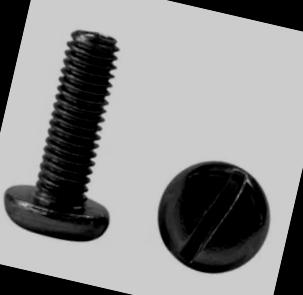slotted: (148, 152, 282, 285)
